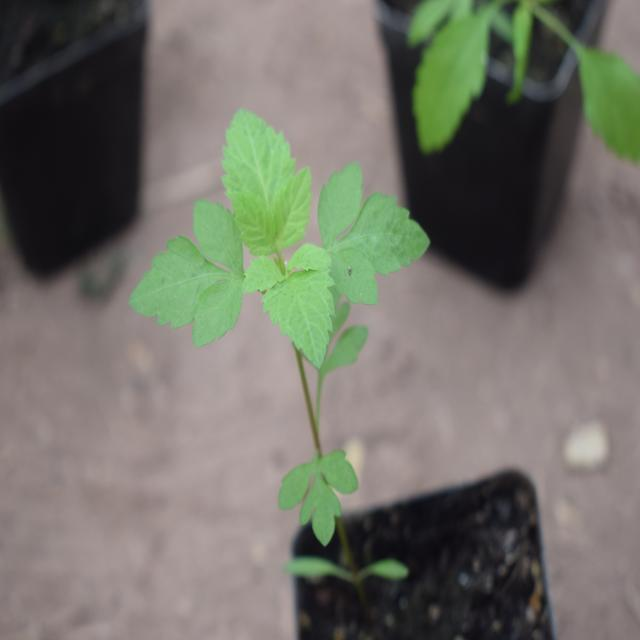Bidens pilosa: (134, 117, 433, 555)
